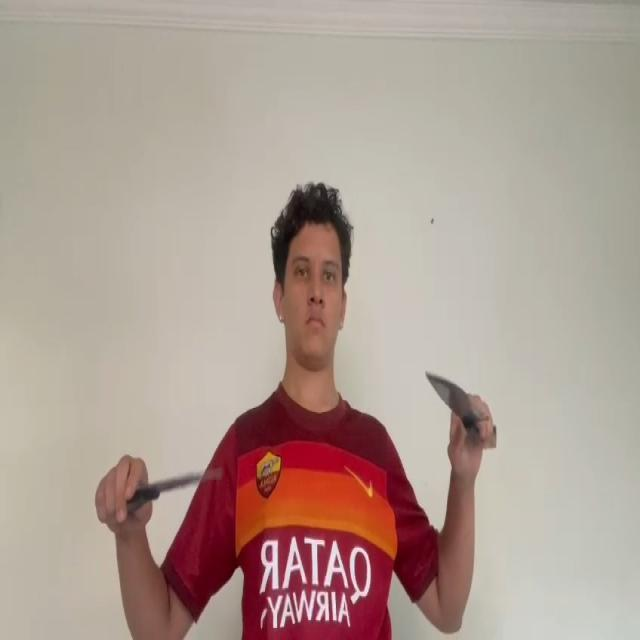knife: (427, 370, 472, 423), (153, 466, 223, 494)
